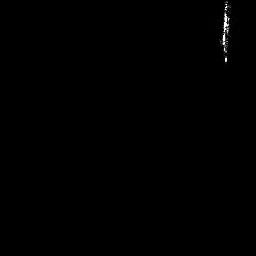ship: (219, 1, 232, 65)
